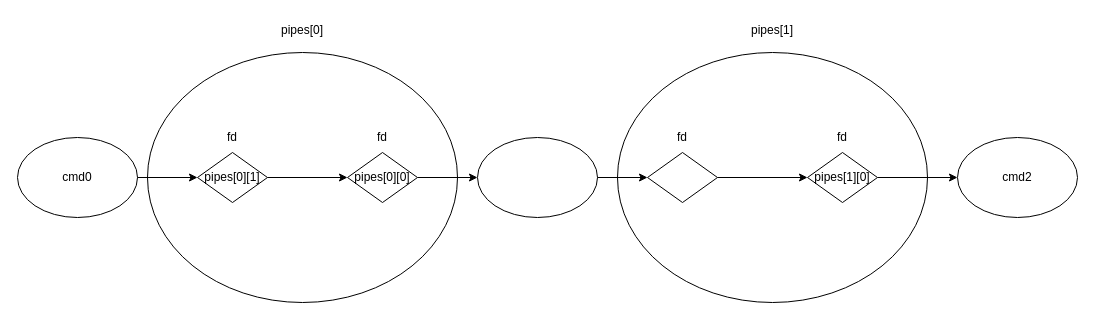
The diagram is 1095 pixels wide and 320 high, and some of its shapes have lost their labels. The shapes that lost their labels are listed below. From the top down, each one's centre as x and y in pixels, then its label:
the point at 537,177: cmd1
the point at 682,177: pipes[1][1]
